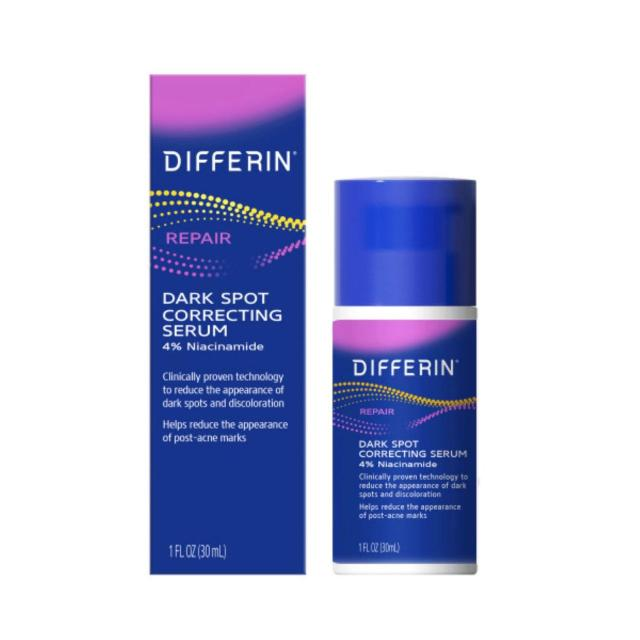medicine: (152, 78, 310, 565), (337, 182, 478, 568)
